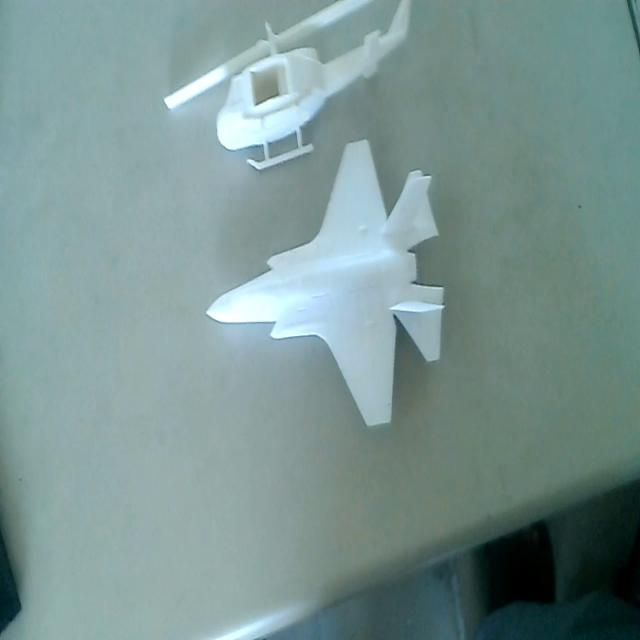Helicopter: (160, 0, 411, 170)
Jet: (194, 135, 448, 431)
